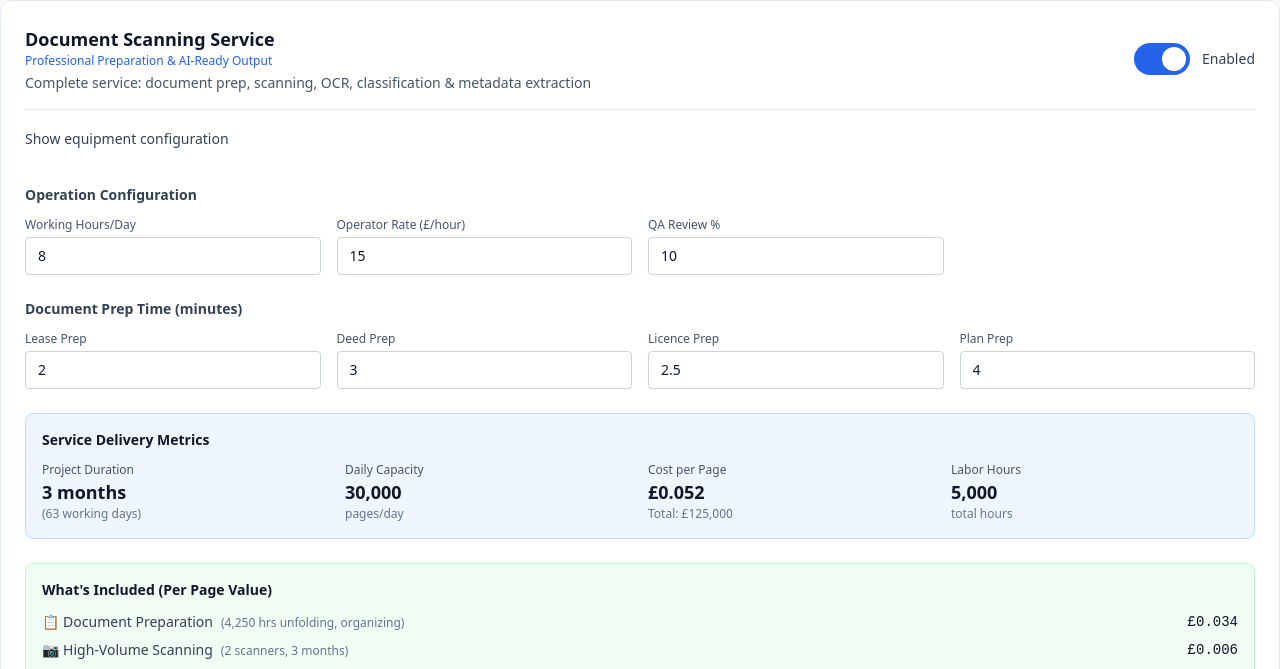
ScanningConfiguration - Equipment Configuration Expandable › should show equipment configuration inputs when toggle is clicked
# Click the toggle button
Click the button "Show equipment configuration" at [127, 139], box 25,129 -> 229,149
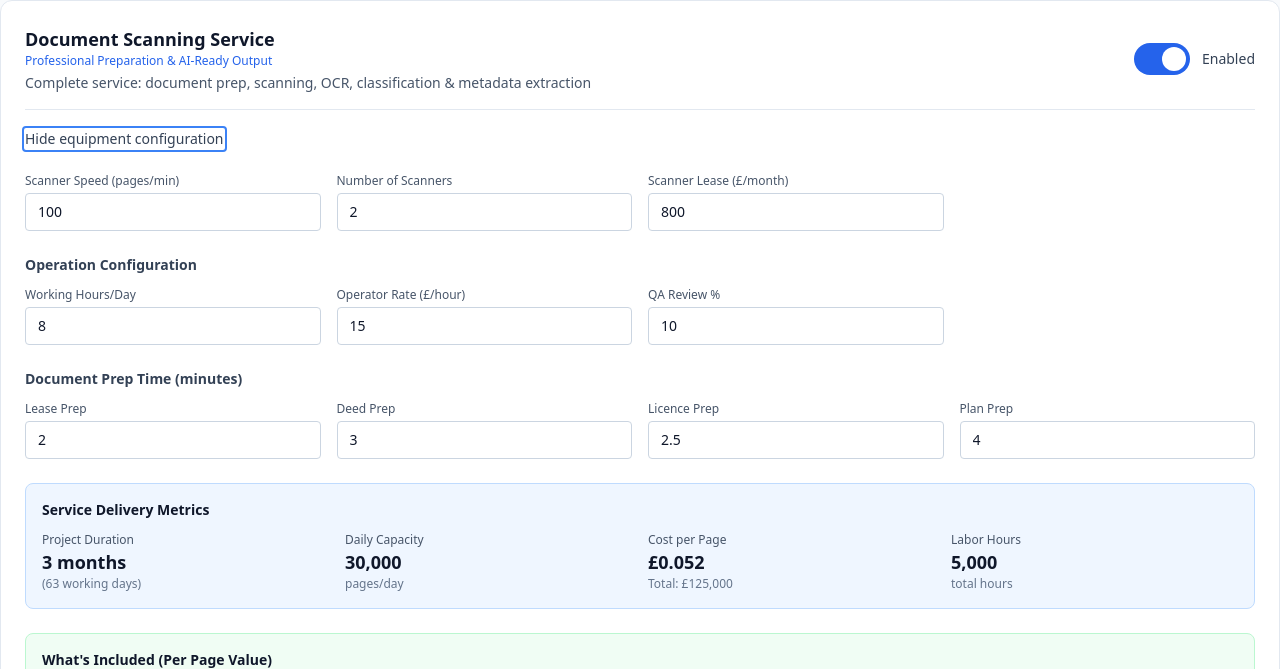
Result: the button "Hide equipment configuration" is shown at 25,129 -> 224,149
Result: the text "Scanner Speed (pages/min)" is shown at 25,172 -> 179,189
Result: the text "Number of Scanners" is shown at 336,172 -> 452,189
